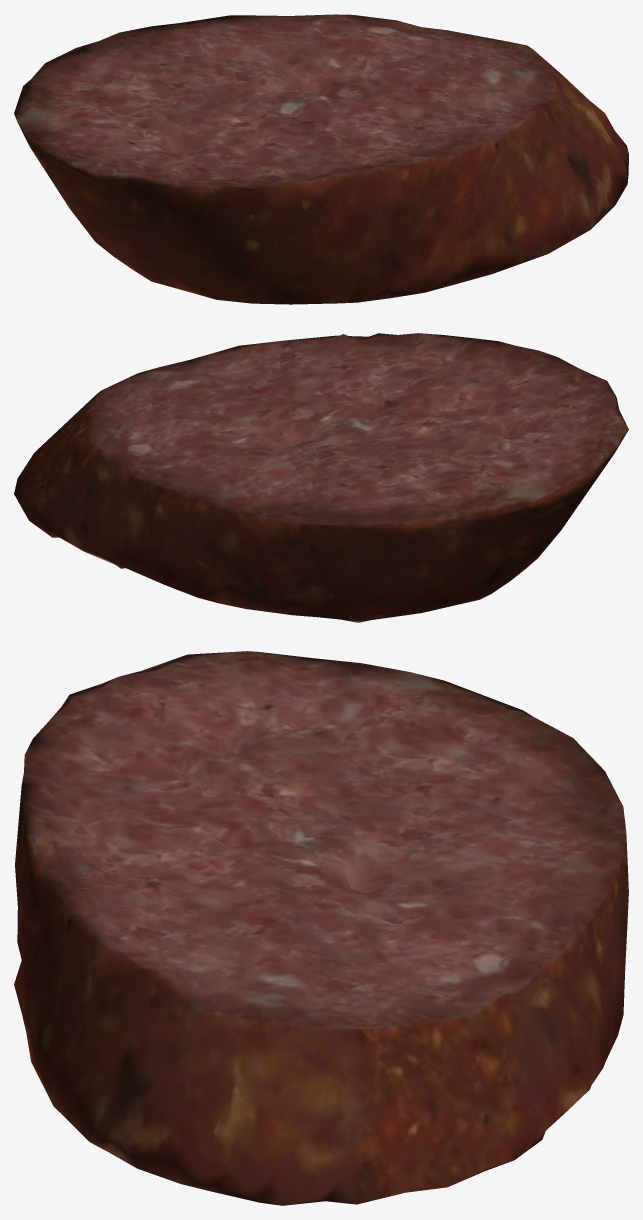
The model's file is meat_a.glb.
3 renders of one model, top to bottom at view 1: azimuth 30°, elevation 25°; view 2: azimuth 150°, elevation 25°; view 3: azimuth 270°, elevation 25°, orthographic. The views are drawn at different scales.
Visible parts, largest first — view 1: wjokfjq_LOD0_TIER2_000; view 2: wjokfjq_LOD0_TIER2_000; view 3: wjokfjq_LOD0_TIER2_000.
Boxes of the visible parts, bbox=[...] form: wjokfjq_LOD0_TIER2_000: bbox=[14, 14, 628, 304]; wjokfjq_LOD0_TIER2_000: bbox=[14, 333, 628, 622]; wjokfjq_LOD0_TIER2_000: bbox=[14, 651, 628, 1205].
Size of the model in its own units: 0.0569 by 0.0137 by 0.0391.
1 material, 1 textured.
